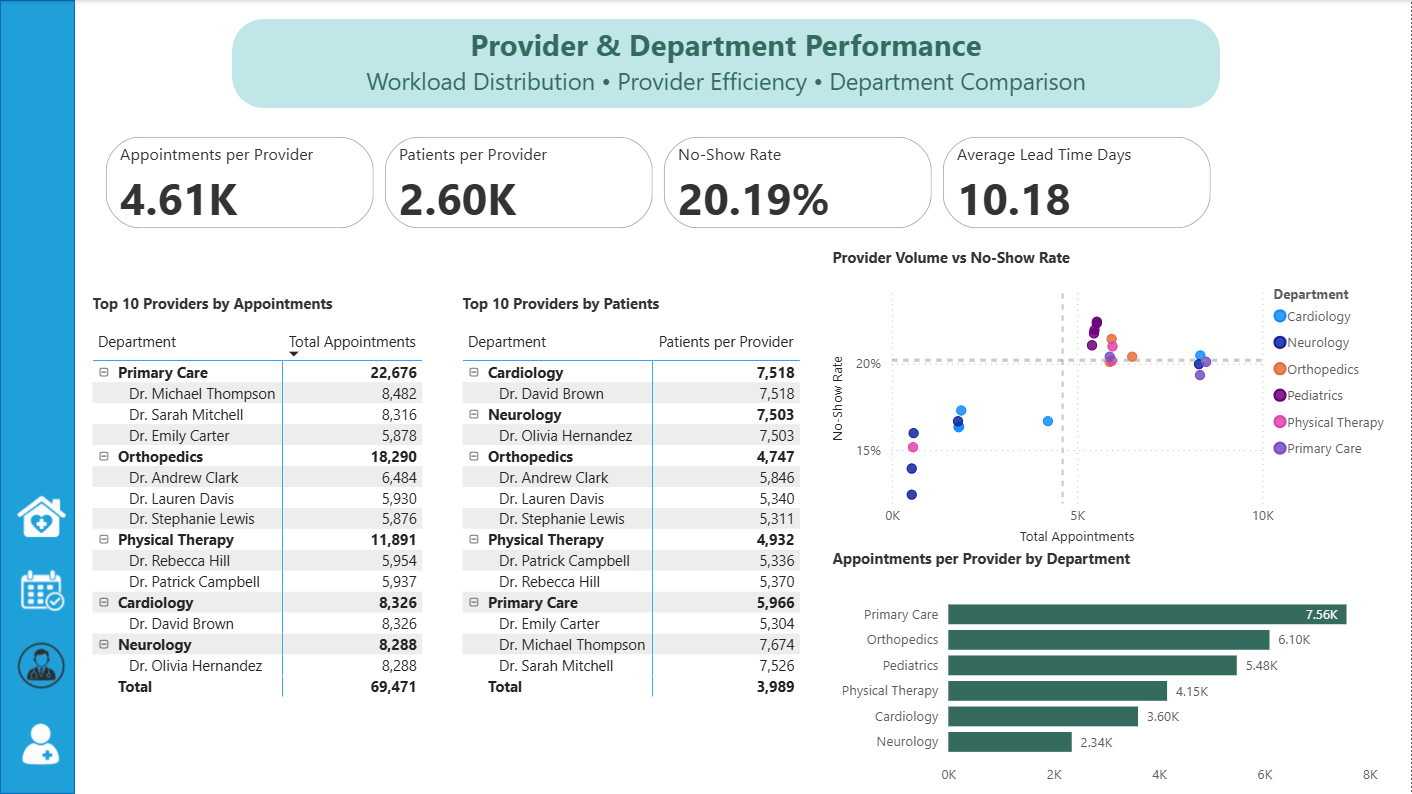

What the dashboard file says about the page in this screenshot:
{"tool":"powerbi","page":{"name":"Provider & Department Performance","canvas":[1280,720],"ordinal":2},"visuals":[{"type":"pivotTable","title":"Top 10 Providers by Appointments","fields":{"Rows":["DepartmentDim.Department","ProviderDim.ProviderName"],"Values":["Measure Table.Total Appointmentsts"]},"box":[78.8,266.4,322.2,371.1],"z":0},{"type":"shape","box":[0,0,68,720],"z":1000},{"type":"cardVisual","fields":{"Data":["Measure Table.Total Appointments per Provider","Measure Table.Patients per Provider","Measure Table.No-Show Rate","Measure Table.Average Lead Time Days"]},"box":[78.9,107,1039.2,117.9],"z":2000},{"type":"shape","box":[210.5,17,895.9,80.8],"z":3000},{"type":"textbox","box":[220.5,17,875.9,84.8],"z":4000},{"type":"pivotTable","title":"Top 10 Providers by Patients","fields":{"Rows":["DepartmentDim.Department","ProviderDim.ProviderName"],"Values":["Measure Table.Patients per Provider"]},"box":[414,266.4,322.2,371.1],"z":5000},{"type":"scatterChart","title":"Provider Volume vs No-Show Rate","fields":{"Category":["ProviderDim.ProviderName"],"Series":["DepartmentDim.Department"],"X":["Measure Table.Total Appointments"],"Y":["Measure Table.No-Show Rate"]},"box":[750.2,224.5,519.8,273.4],"z":6000},{"type":"barChart","title":"Appointments per Provider by Department","fields":{"Category":["DepartmentDim.Department"],"Y":["Measure Table.Total Appointments per Provider"]},"box":[749.9,497.9,520.1,222.7],"z":7000},{"type":"actionButton","box":[0,429.8,75.5,76.7],"z":8000},{"type":"actionButton","box":[9.3,506.4,56.9,58.1],"z":9000},{"type":"actionButton","box":[9.3,573.8,56.9,58.1],"z":10000},{"type":"actionButton","box":[2.3,640,73.2,68.5],"z":11000}]}

Visuals, with their boxes in screenshot pixels (x1, y1, x2, y2), scaled from the page's 1280x720 canvas onto the 1412x794 screenshot:
"Top 10 Providers by Appointments" pivotTable: pyautogui.locateOnScreen(87, 294, 442, 703)
shape: pyautogui.locateOnScreen(0, 0, 75, 793)
cardVisual - Measure Table.Total Appointments per Provider x Measure Table.Patients per Provider: pyautogui.locateOnScreen(87, 118, 1233, 248)
shape: pyautogui.locateOnScreen(232, 19, 1220, 108)
textbox: pyautogui.locateOnScreen(243, 19, 1209, 112)
"Top 10 Providers by Patients" pivotTable: pyautogui.locateOnScreen(457, 294, 812, 703)
"Provider Volume vs No-Show Rate" scatterChart: pyautogui.locateOnScreen(828, 248, 1401, 549)
"Appointments per Provider by Department" barChart: pyautogui.locateOnScreen(827, 549, 1401, 793)
actionButton: pyautogui.locateOnScreen(0, 474, 83, 559)
actionButton: pyautogui.locateOnScreen(10, 558, 73, 623)
actionButton: pyautogui.locateOnScreen(10, 633, 73, 697)
actionButton: pyautogui.locateOnScreen(3, 706, 83, 781)
